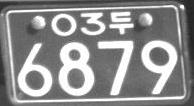0: (50, 12, 77, 36)
3: (80, 12, 105, 36)
6: (17, 43, 52, 97)
7: (97, 39, 134, 95)
8: (57, 41, 95, 96)
9: (140, 38, 178, 95)
두: (109, 11, 134, 35)
